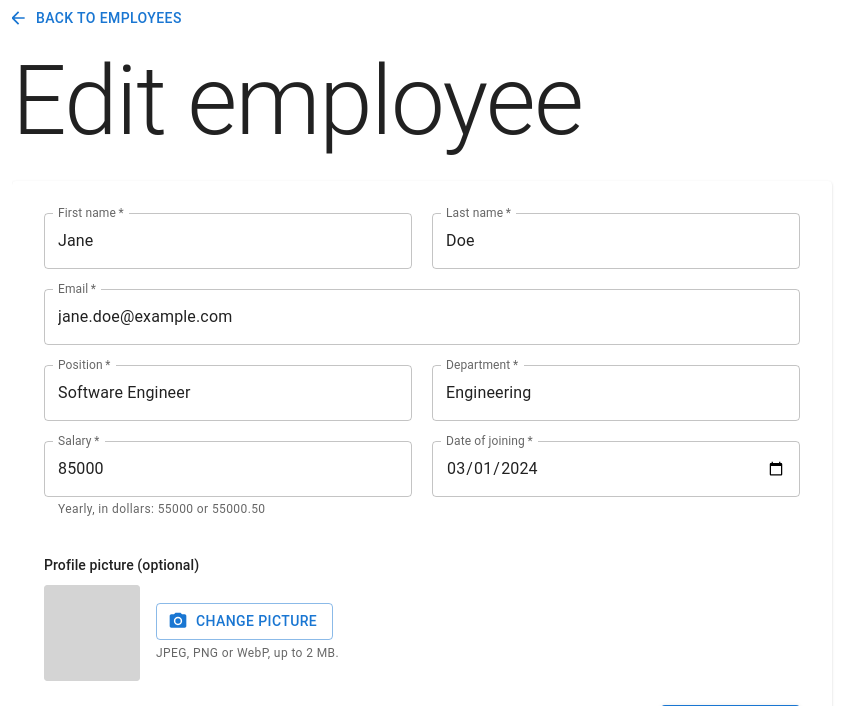
Scenario: EditEmployeePage: saving › updates with PUT, says so, and returns to the list
Expected: the field showing "Jane" is shown, [44,212,412,268]
Step 1. Replace the text in the field labelled "Salary *" with "91000.50" → (228, 468), box [44,440,412,496]
(page scrolled)
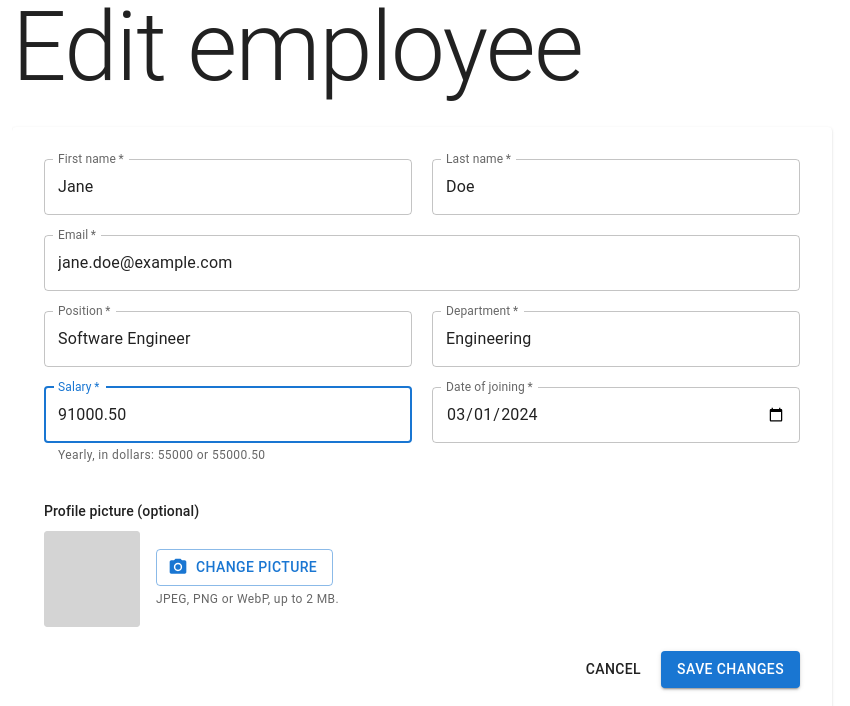
Step 2. Click the button "Save changes" → (731, 670), box [661,651,800,688]
(page scrolled)
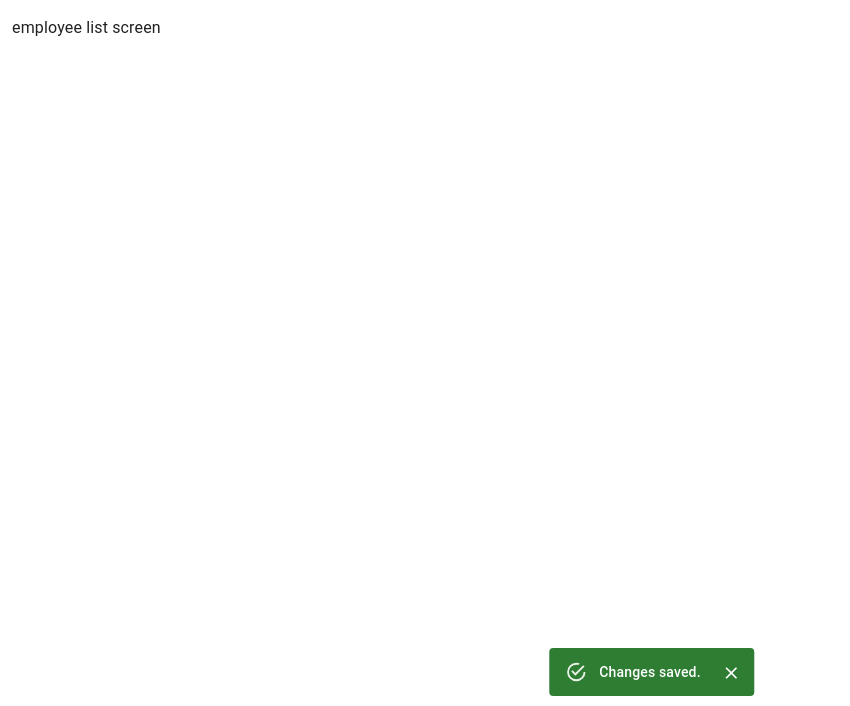
Expected: the text "employee list screen" is shown, [12,18,161,37]
Expected: the text "Changes saved." is shown, [599,664,701,680]
